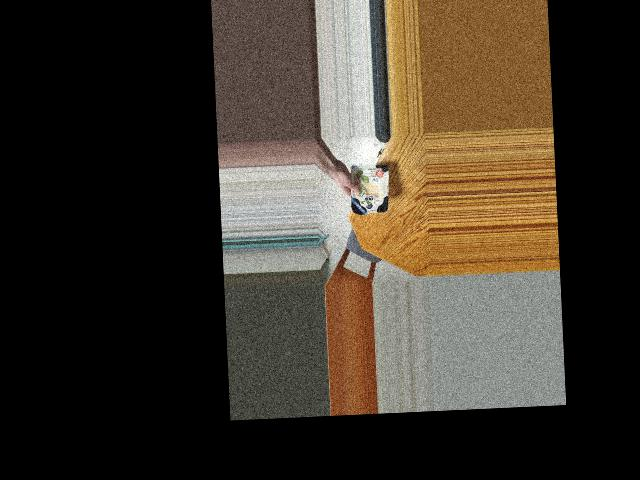cheese: (347, 153, 390, 226)
